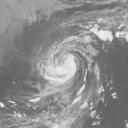cyclone: (36, 36, 92, 88)
